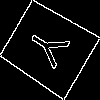Y: (24, 23, 79, 75)
